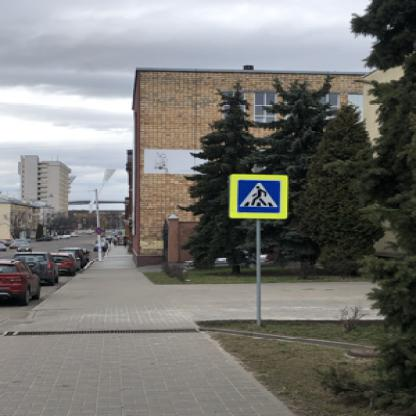crosswalk: (234, 178, 280, 213)
